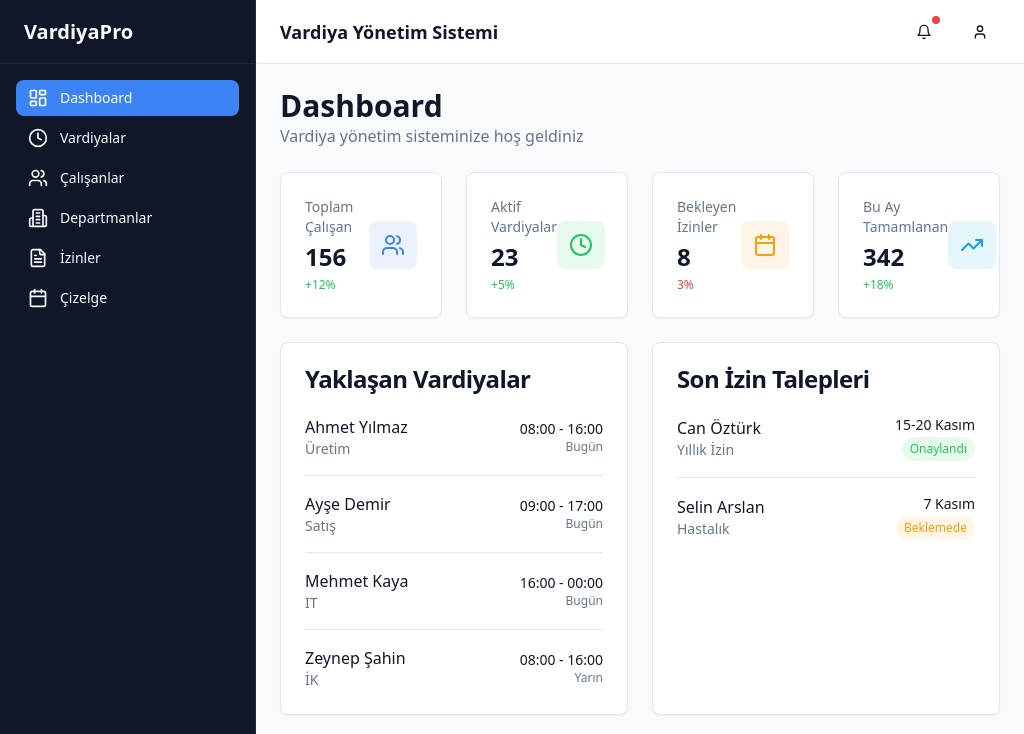
Test case: Departments page › navigates to Departments and sees cards
Click the link with test id "nav-departments" at (90, 218), box [28,208,152,228]
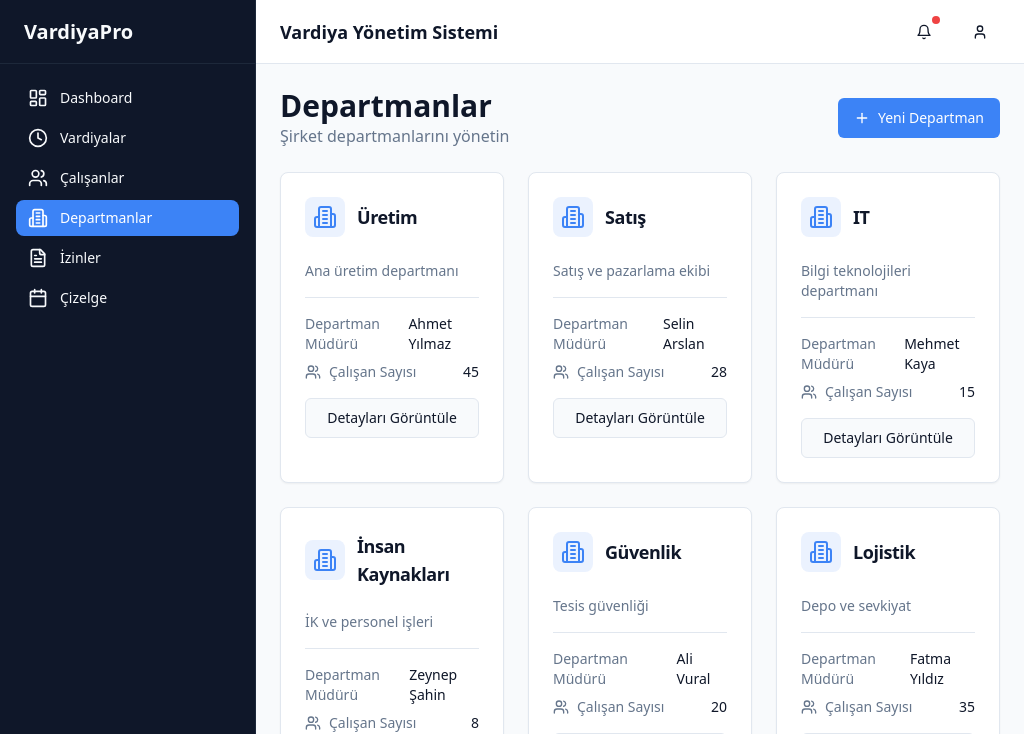
expect the link "Departmanlar" is shown: met, box [16,200,239,236]
expect the button with test id "departments-add-btn" is shown: met, box [838,98,1000,138]
